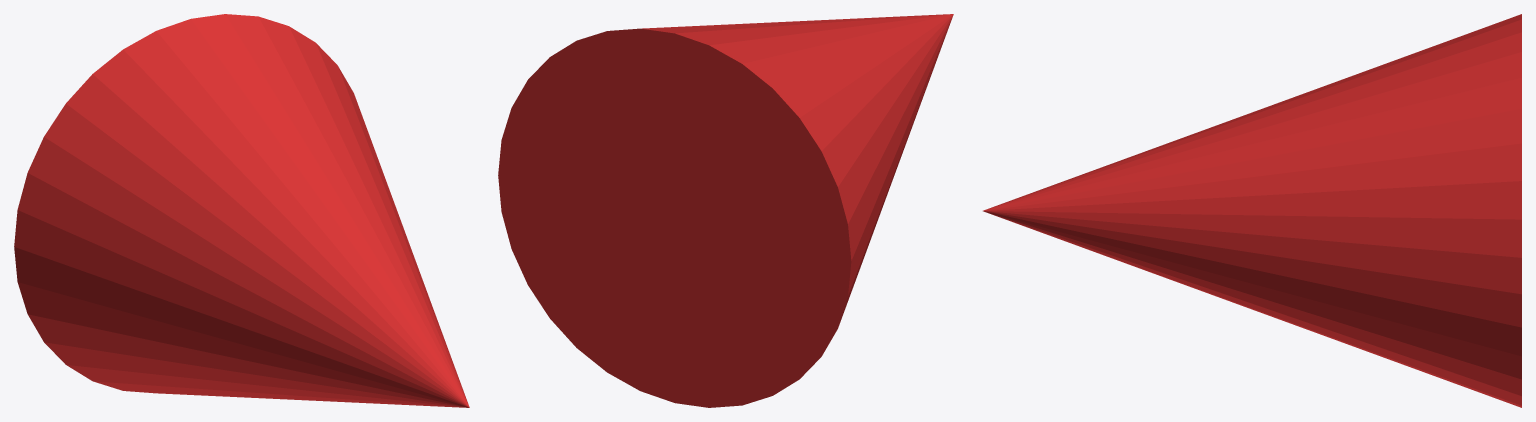
The model's file is cone_red.glb.
3 renders of one model, left to right at view 1: azimuth 30°, elevation 25°; view 2: azimuth 150°, elevation 25°; view 3: azimuth 270°, elevation 25°, orthographic. The views are drawn at different scales.
Parts seen in each view (by area): view 1: cone_red; view 2: cone_red; view 3: cone_red.
Boxes of the visible parts, <box> form: cone_red: <box>14,14,469,407</box>; cone_red: <box>498,14,953,407</box>; cone_red: <box>983,14,1521,407</box>.
Size of the model in its own units: 0.38 by 0.38 by 0.52.
